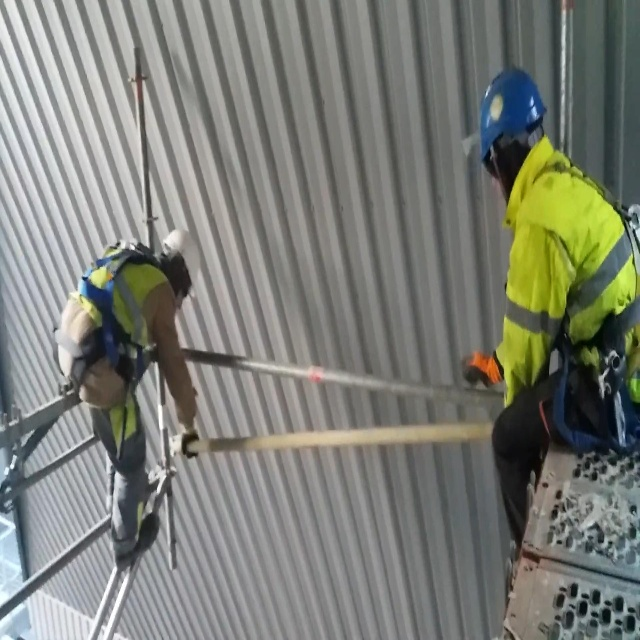Arnes_seguridad: (526, 143, 640, 379), (54, 232, 175, 417)
